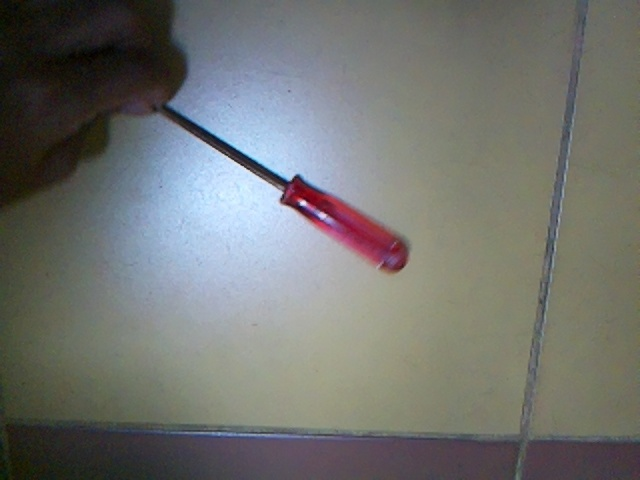redskrew: (123, 85, 419, 287)
